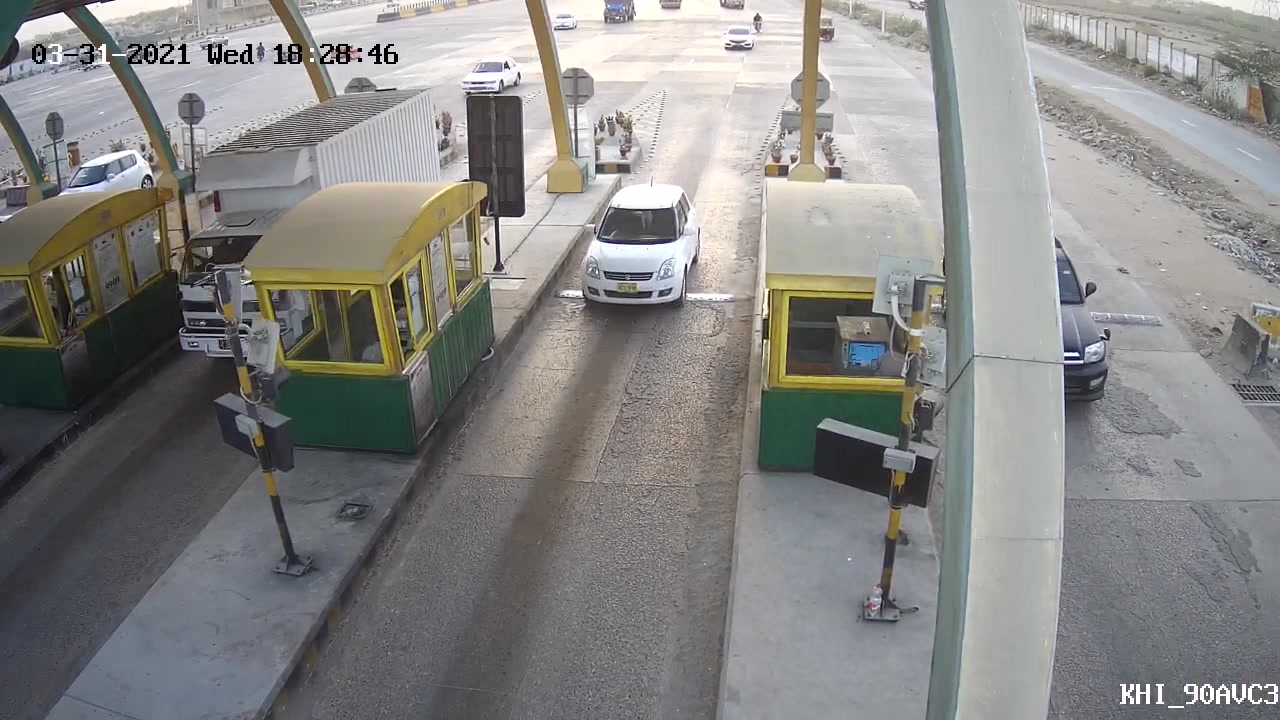F1: (564, 180, 712, 311)
